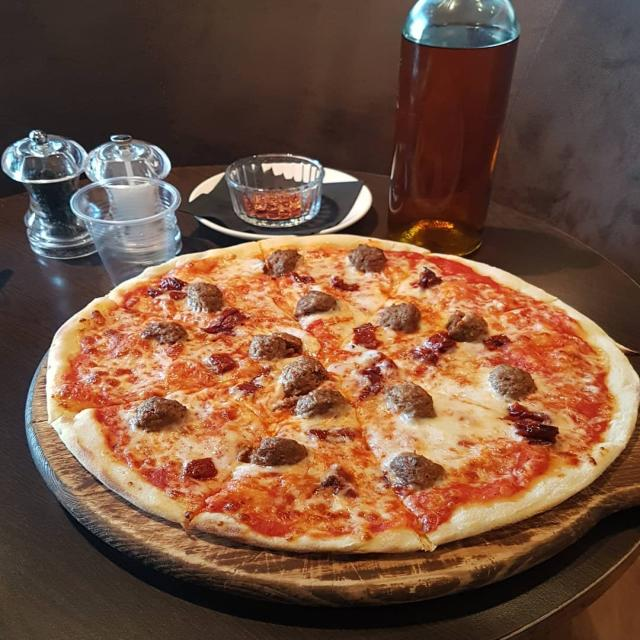pizza: (43, 231, 640, 560)
